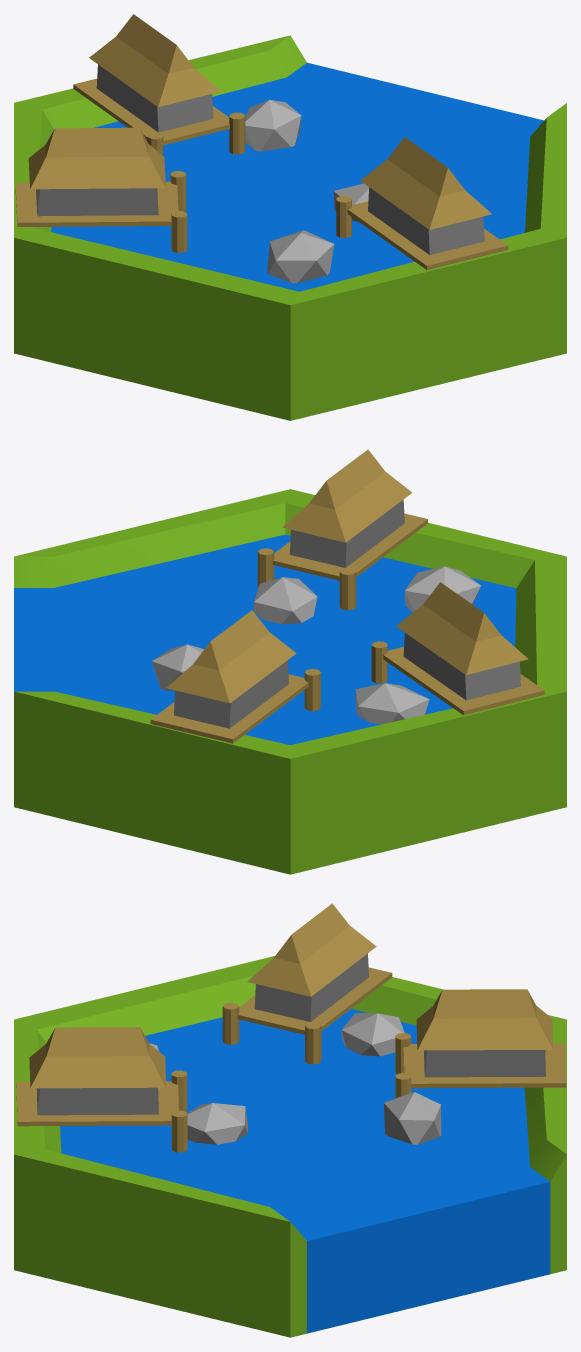
Rendered from Casas_Lago_3.fbx.
The picture shows the model from 3 angles, top to bottom: view 1: azimuth 30°, elevation 25°; view 2: azimuth 150°, elevation 25°; view 3: azimuth 270°, elevation 25°; orthographic projection.
Visible parts, largest first — view 1: Casas_Lago_3; view 2: Casas_Lago_3; view 3: Casas_Lago_3.
Part boxes in pixels (x1,y1,x2,y2): Casas_Lago_3: (14,14,566,420); Casas_Lago_3: (14,449,566,874); Casas_Lago_3: (14,903,566,1337).
Size of the model in its own units: 200 by 67.29 by 173.
